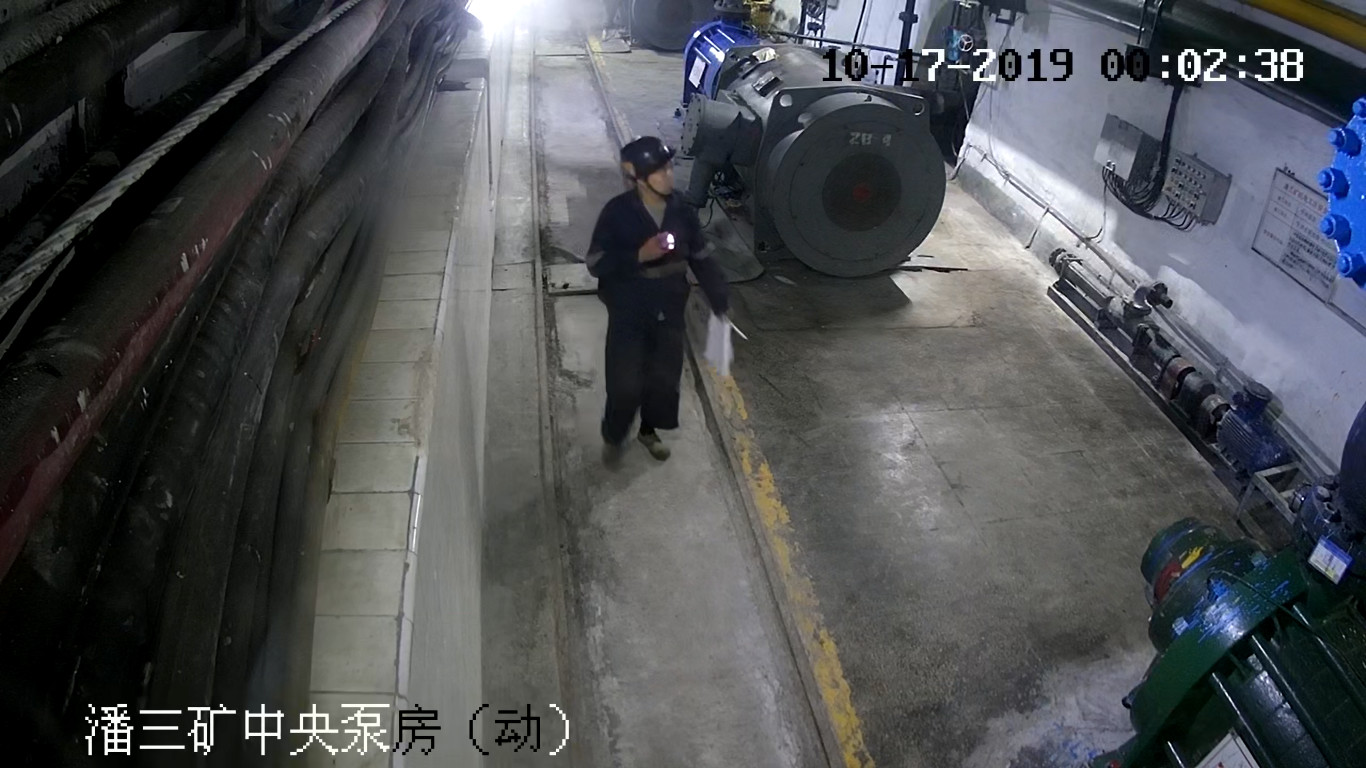helmet: (620, 135, 676, 179)
